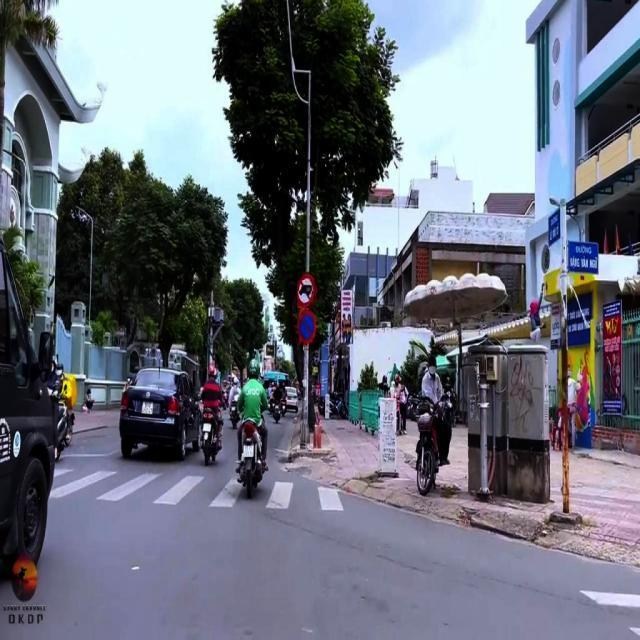106-cam-oto-tai: (297, 274, 317, 308)
131a-cam-do-xe: (296, 310, 317, 344)
